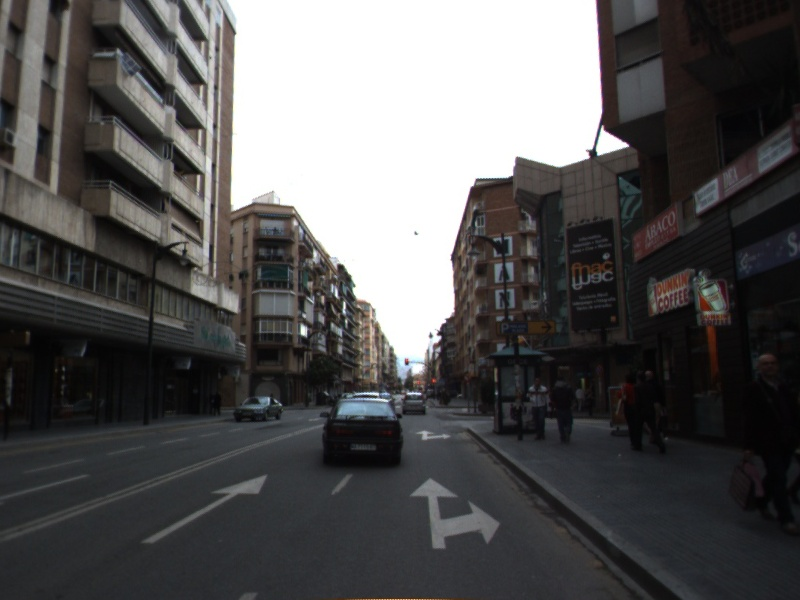STRAIGHT: (138, 471, 270, 547)
STRAIGHT_RIGHT: (407, 475, 502, 551), (413, 428, 454, 442)
